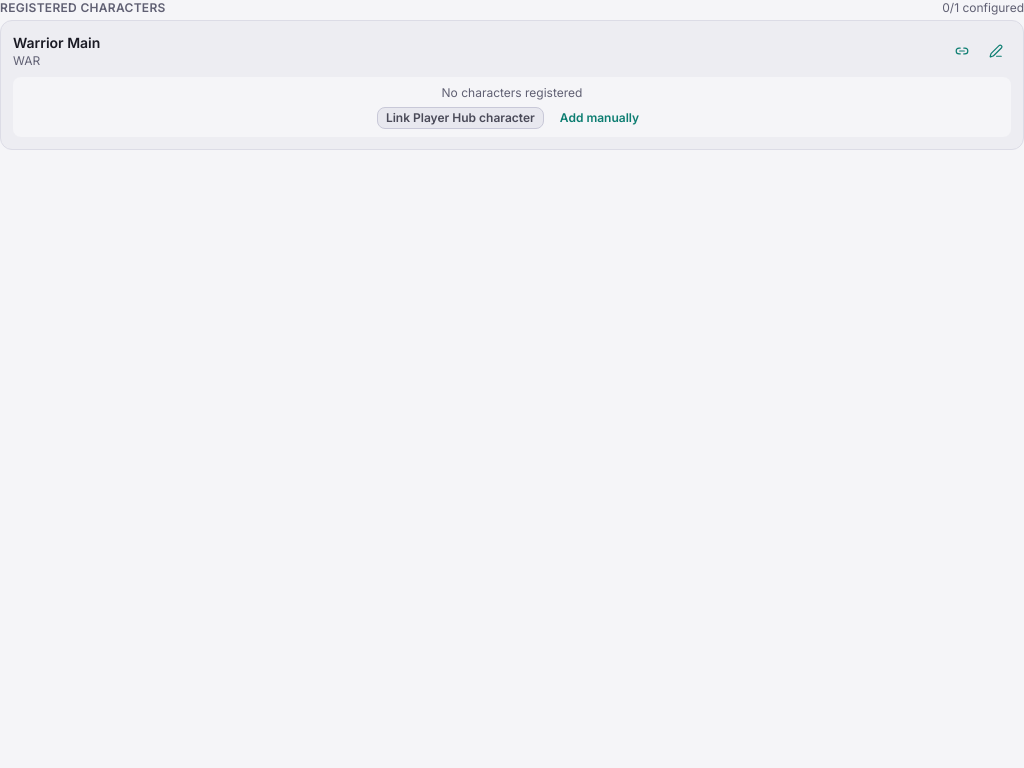
Test: RosterCharacterPanel › shows character names from the available list inside link modal
The width and height of the screenshot is (1024, 768).
What coordinates should you click on to do the following:
click the button "Link Player Hub character"
I would click on:
 (460, 118)
Its box is [377,107,544,129].
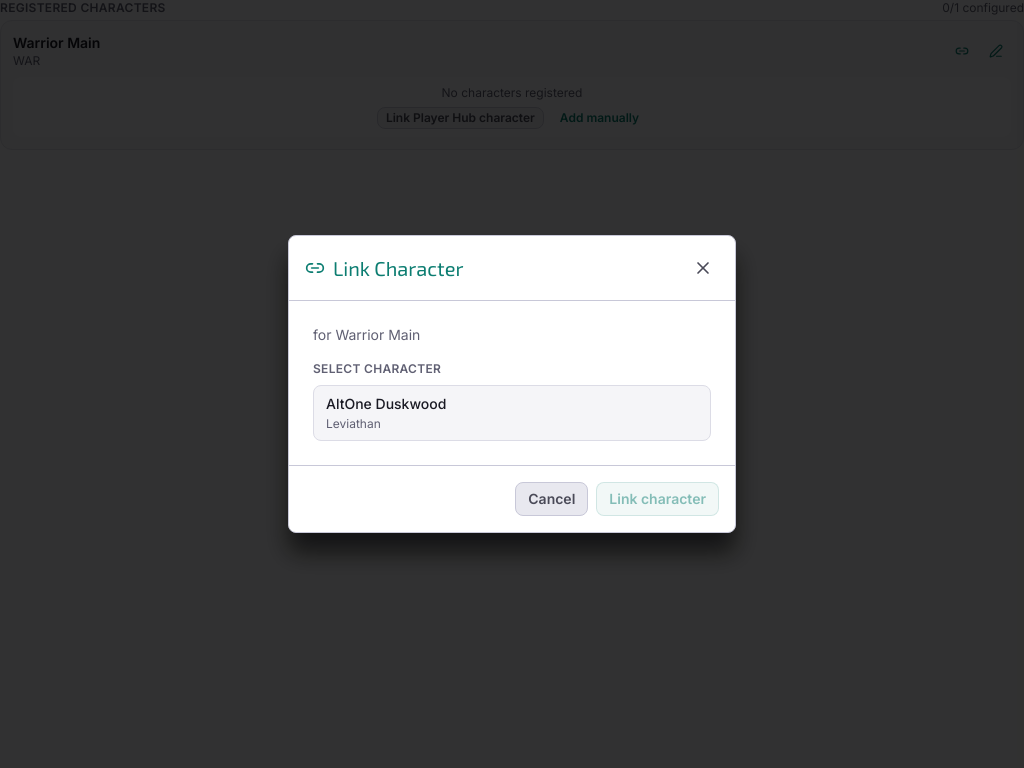
Expected: the text "AltOne Duskwood" is shown, [326,394,446,414]
Expected: the text "Leviathan" is shown, [326,416,381,431]
